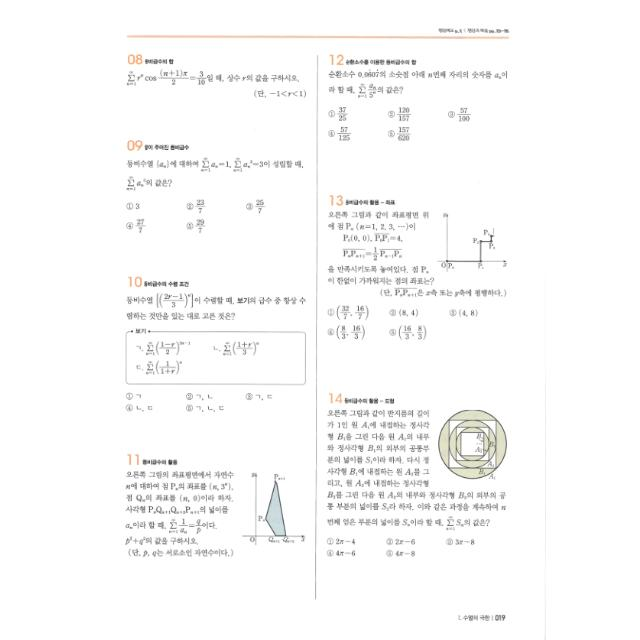multiple: (321, 381, 519, 577), (321, 186, 517, 350), (115, 268, 312, 420), (117, 130, 309, 246), (322, 45, 512, 157)
short: (114, 444, 310, 570), (117, 46, 313, 110)
